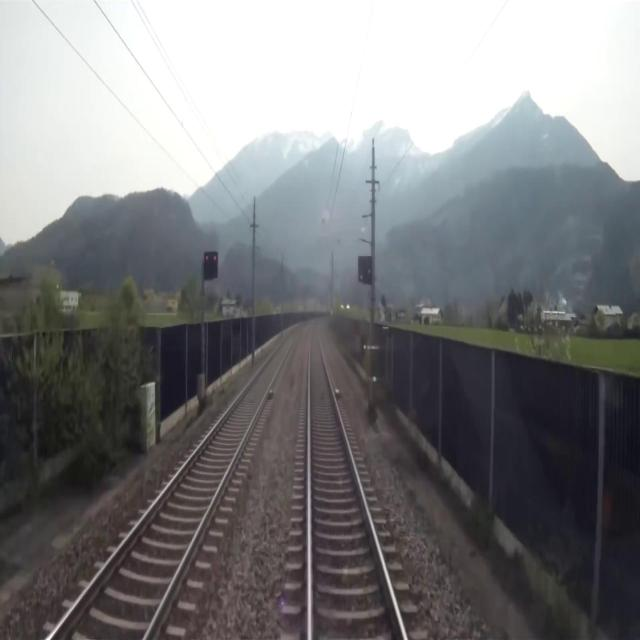rail-track: (51, 326, 302, 639), (310, 320, 402, 639)
